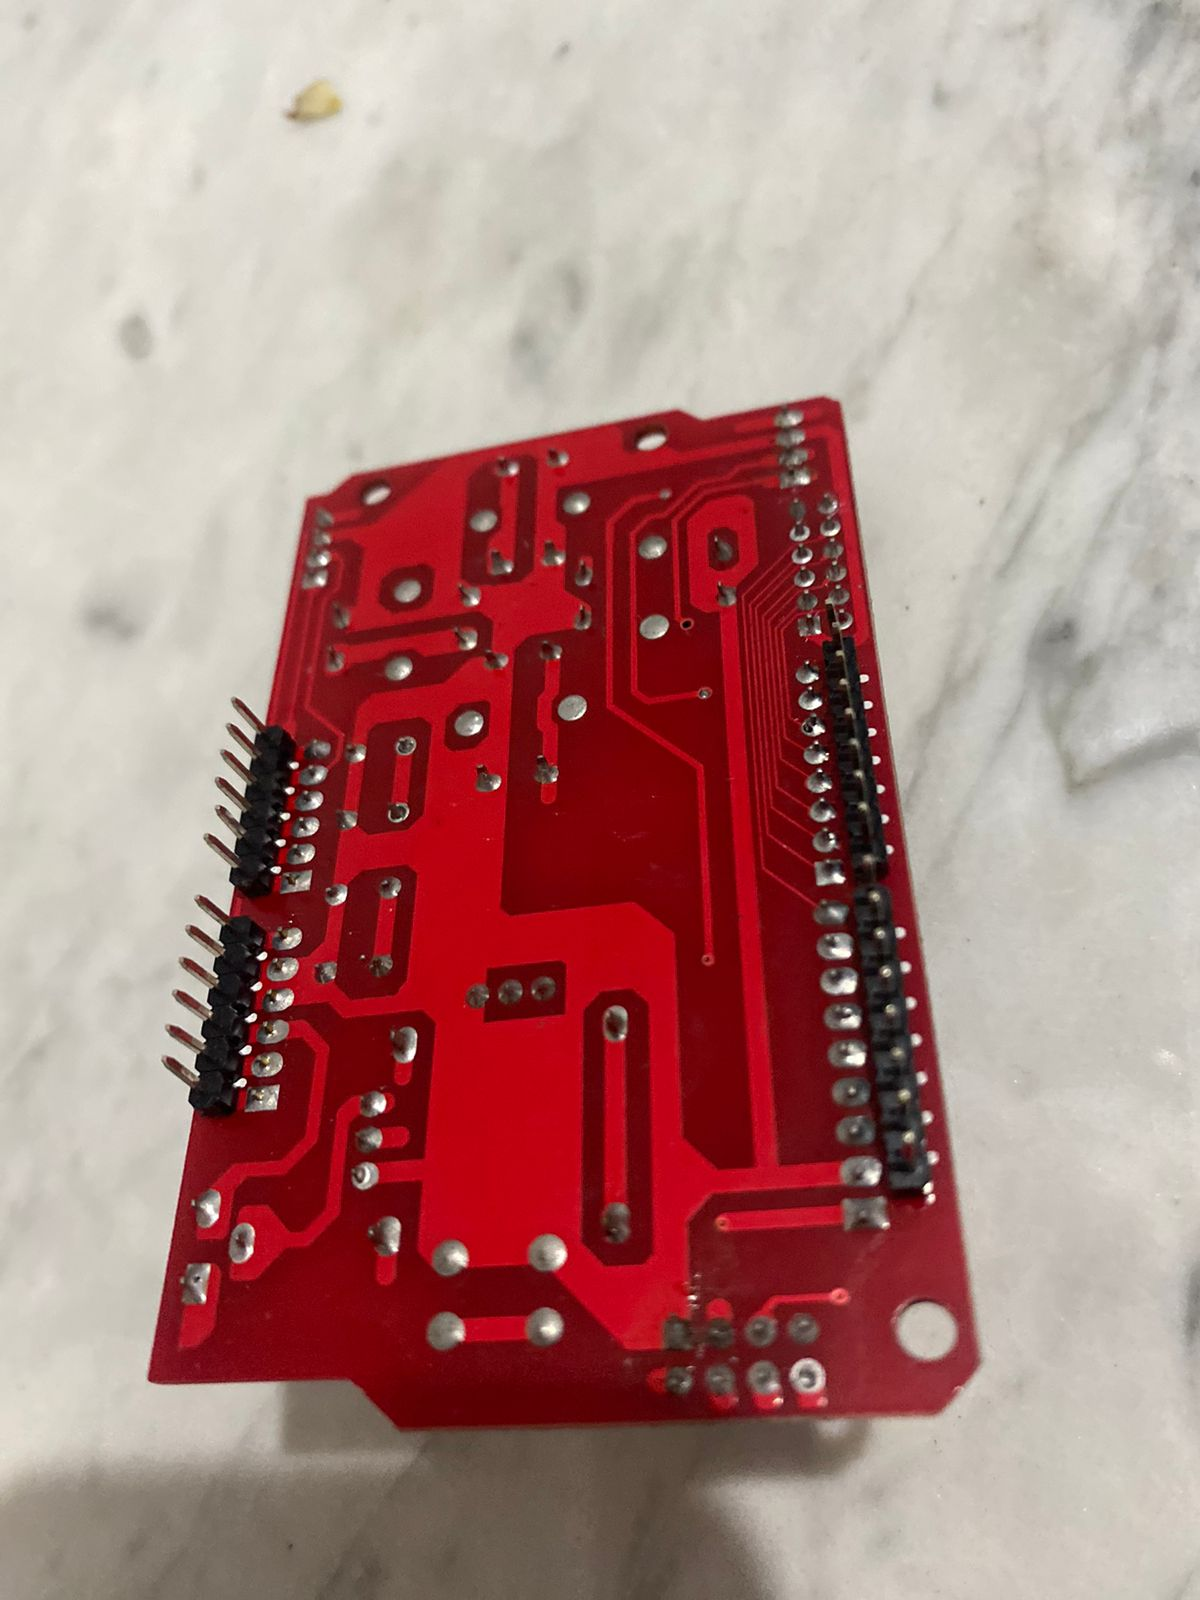Clavier-Joystick: (142, 392, 1007, 1471)
